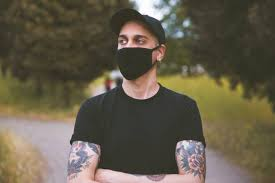MASK: (118, 48, 152, 80)
